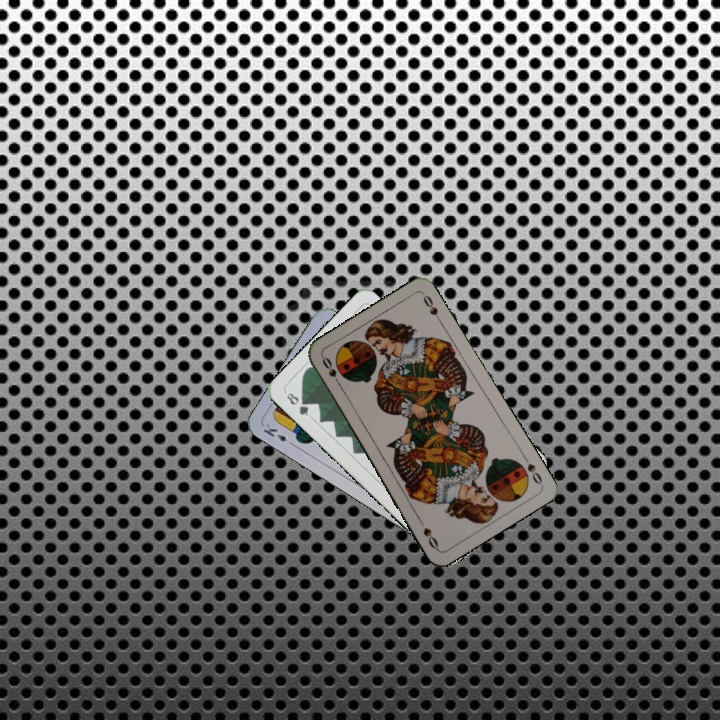EK: (259, 420, 297, 449)
G8: (282, 388, 312, 418)
SO: (518, 451, 545, 487), (318, 353, 344, 390)
